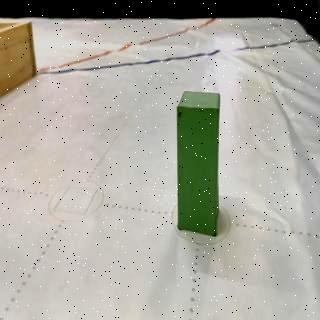greenbox: (176, 89, 221, 238)
